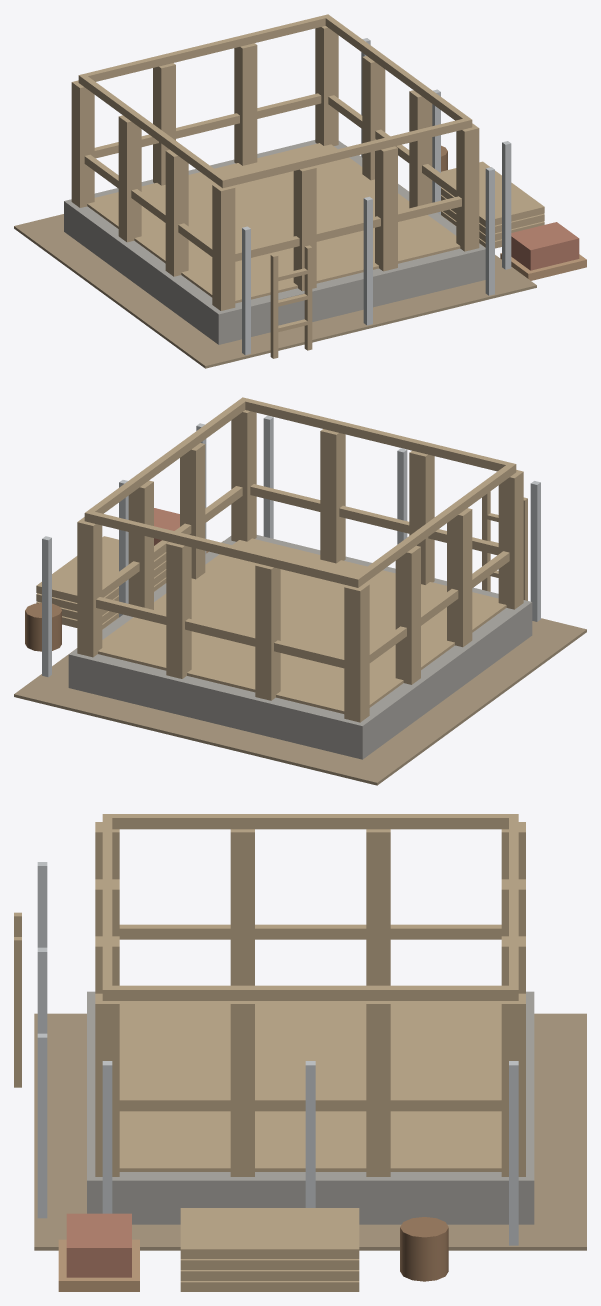
Rendered from chicken_coop_site_4.glb.
The picture shows the model from 3 angles, top to bottom: view 1: azimuth 30°, elevation 25°; view 2: azimuth 150°, elevation 25°; view 3: azimuth 270°, elevation 25°; orthographic projection. The views are drawn at different scales.
Parts seen in each view (by area): view 1: body; view 2: body; view 3: body.
Boxes of the visible parts, x1=… form: body: x1=14, y1=14, x2=586, y2=368; body: x1=14, y1=397, x2=586, y2=785; body: x1=14, y1=814, x2=586, y2=1291.
Bounding box in the file's own units: 1.6 × 0.63 × 1.41.
